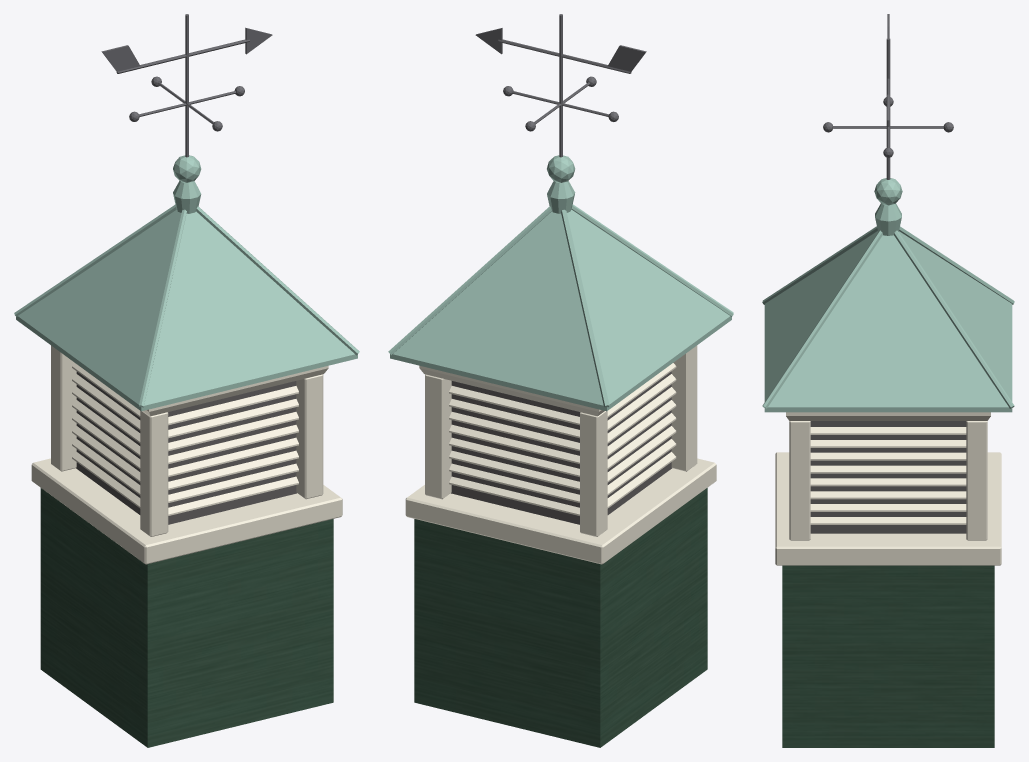
File: cupola.glb
3 renders of one model, left to right at view 1: azimuth 30°, elevation 25°; view 2: azimuth 150°, elevation 25°; view 3: azimuth 270°, elevation 25°, orthographic.
Visible parts, largest first — view 1: cupola_boards, cupola_copper, cupola_trim, cupola_dark, cupola_iron; view 2: cupola_boards, cupola_copper, cupola_trim, cupola_dark, cupola_iron; view 3: cupola_copper, cupola_boards, cupola_trim, cupola_dark, cupola_iron.
Boxes of the visible parts, x1,y1,x2,y2 form: cupola_boards: (40,488,333,747); cupola_copper: (14,155,359,411); cupola_trim: (31,345,342,564); cupola_dark: (76,371,296,524); cupola_iron: (101,14,272,157); cupola_boards: (414,488,707,747); cupola_copper: (388,155,733,411); cupola_trim: (405,345,716,564); cupola_dark: (451,371,671,524); cupola_iron: (475,14,646,157); cupola_copper: (762,178,1014,412); cupola_boards: (782,565,994,747); cupola_trim: (775,412,1001,565); cupola_dark: (810,421,966,533); cupola_iron: (823,14,953,179).
Bounding box in the file's own units: 1.43 × 4.14 × 1.43.
Materials: 5 (1 with a texture image).
